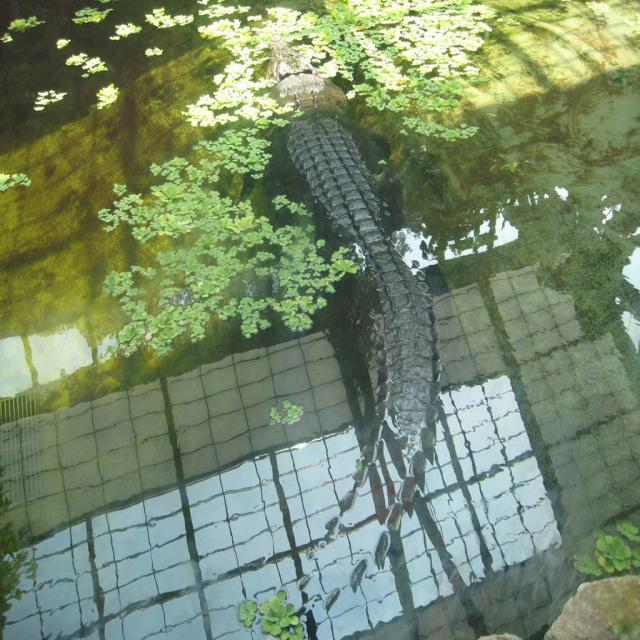crocodile: (188, 0, 495, 618)
